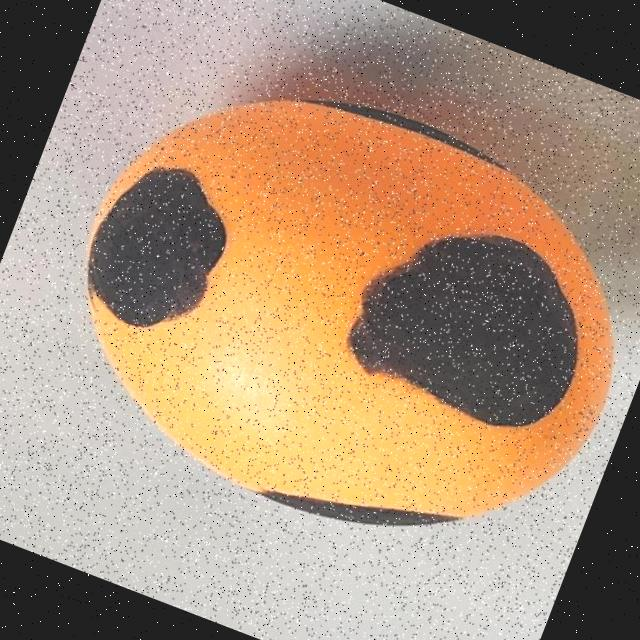ping-pong-ball: (7, 8, 640, 610)
